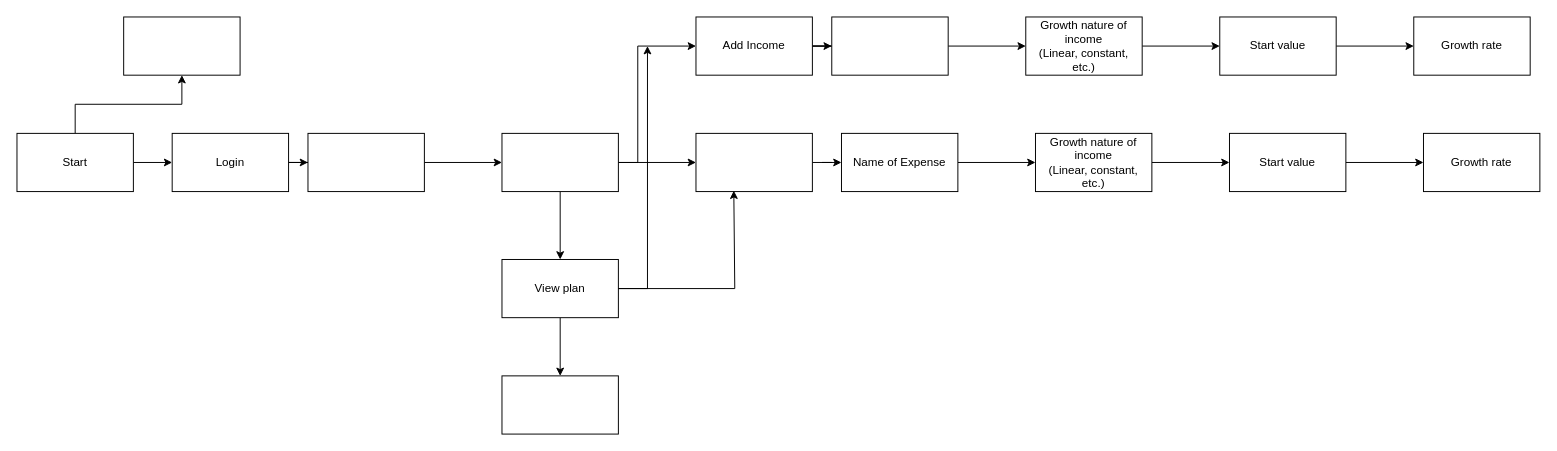
The diagram is 1557 pixels wide and 451 high, and some of its shapes have lost their labels. The centre of each missing label's shape, as x and y in pixels:
"Add expenses" belongs at (x=753, y=162).
"Create a new plan" belongs at (x=559, y=162).
"My plans" belongs at (x=365, y=162).
"Name of income" belongs at (x=889, y=45).
"Sign up" belongs at (x=181, y=45).
